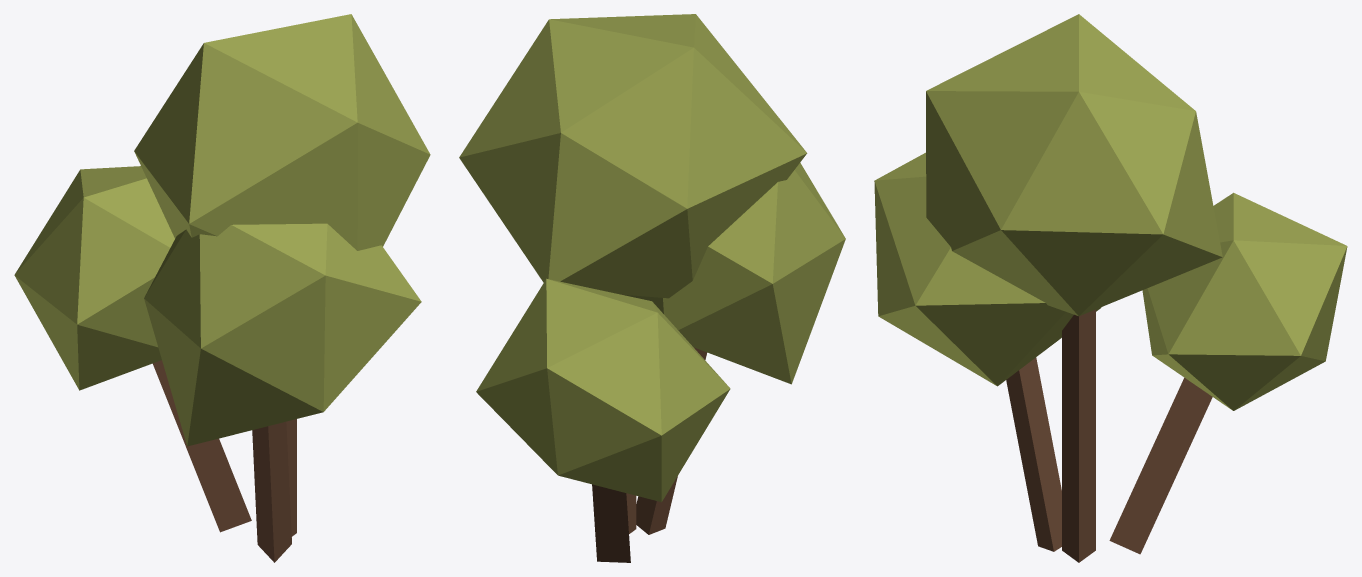
Rendered from Veg_Shrub_A.fbx.
3 views of the same model, side by side, from view 1: azimuth 30°, elevation 25°; view 2: azimuth 150°, elevation 25°; view 3: azimuth 270°, elevation 25° (orthographic).
Visible parts, largest first — view 1: Veg_Shrub_A; view 2: Veg_Shrub_A; view 3: Veg_Shrub_A.
Boxes of the visible parts, x1=… form: Veg_Shrub_A: x1=14, y1=14, x2=430, y2=562; Veg_Shrub_A: x1=459, y1=14, x2=845, y2=562; Veg_Shrub_A: x1=874, y1=14, x2=1347, y2=562.
Size of the model in its own units: 0.3864 by 0.686 by 0.5785.
